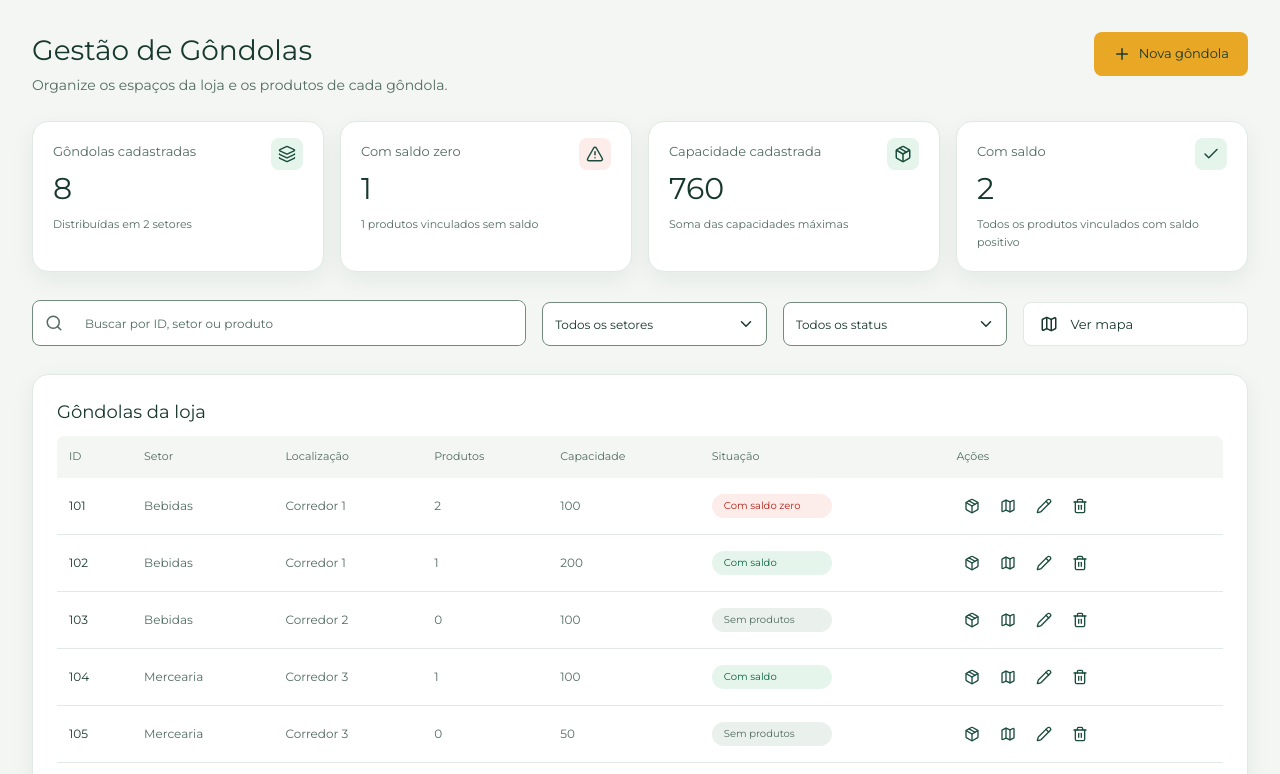
Test case: prevents double submission and closing while waiting for HTTP acknowledgement
Click the button "Nova gôndola": (1171, 54) [1094,32,1248,76]
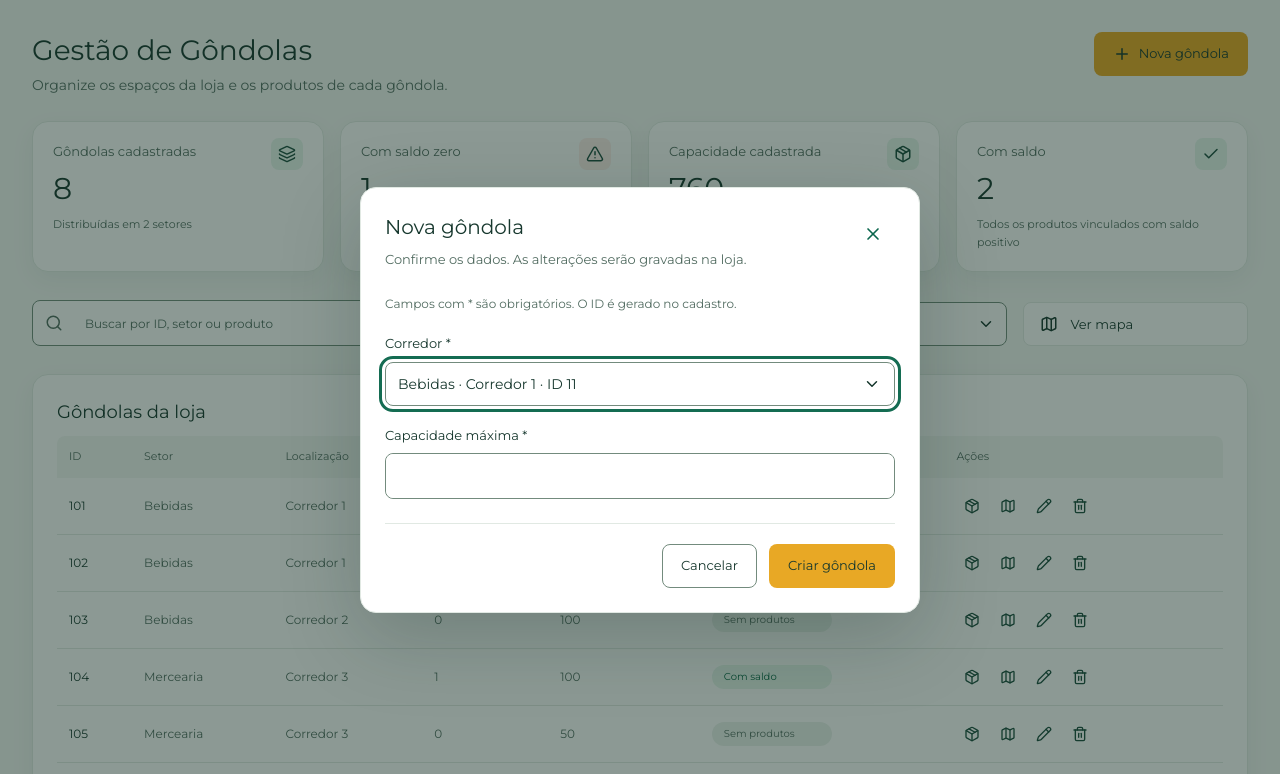
Select "Bebidas · Corredor 2 · ID 12" in the dropdown labelled "Corredor": (640, 384) [385,362,895,406]
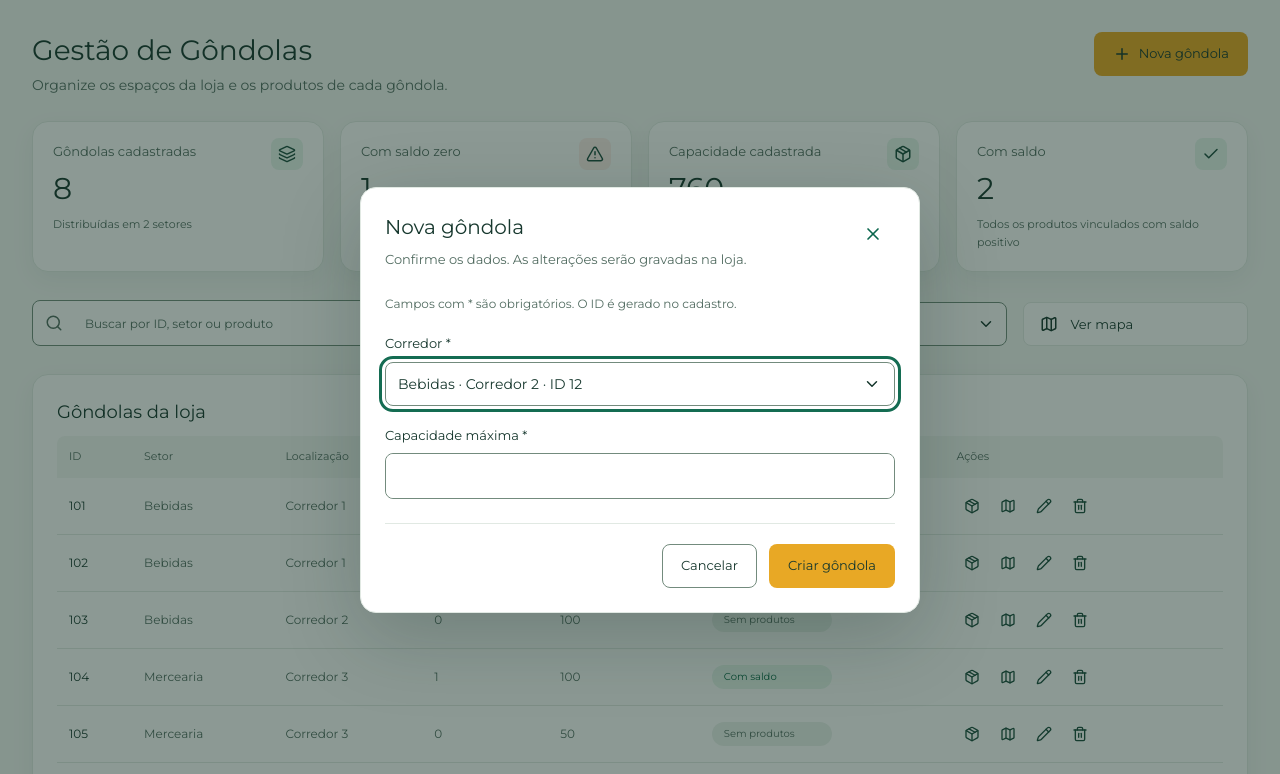
In the number field labelled "Capacidade máxima": (640, 476) [386,454,894,498], type "80"
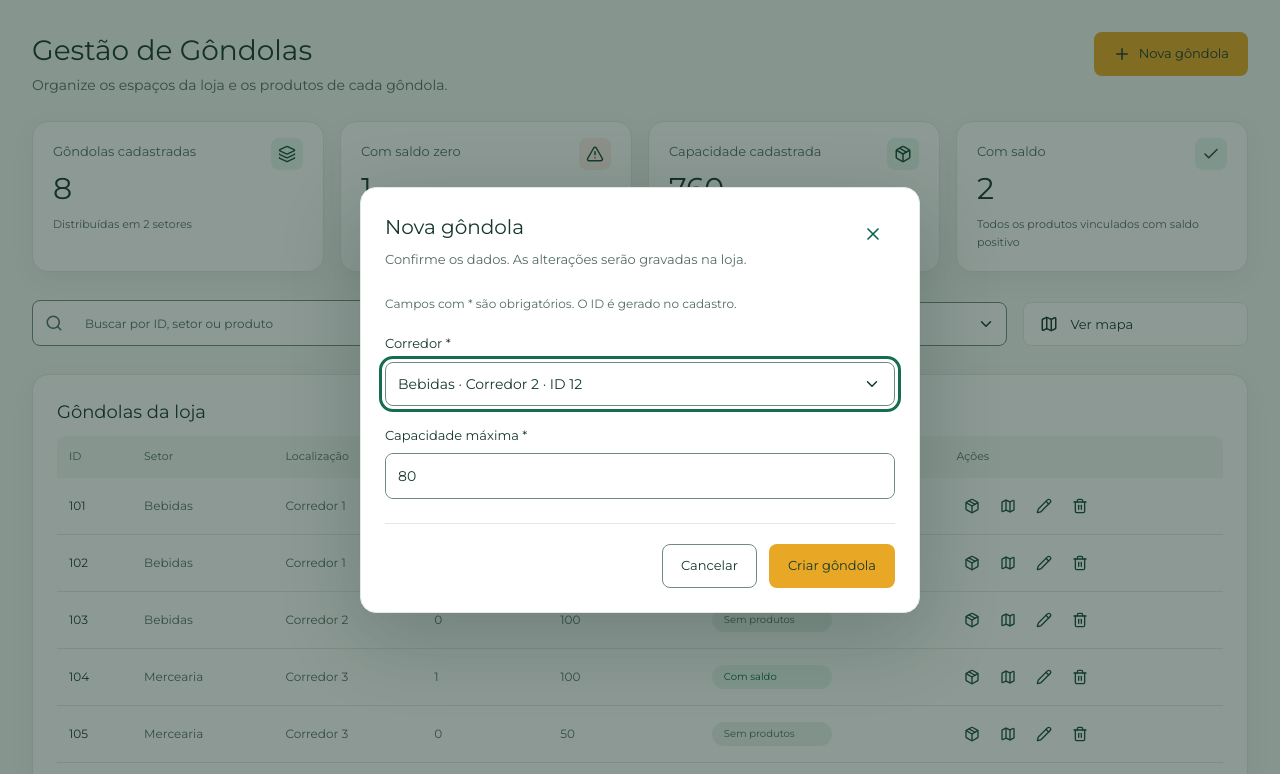
Click the button "Criar gôndola": (832, 566) [769,544,895,588]
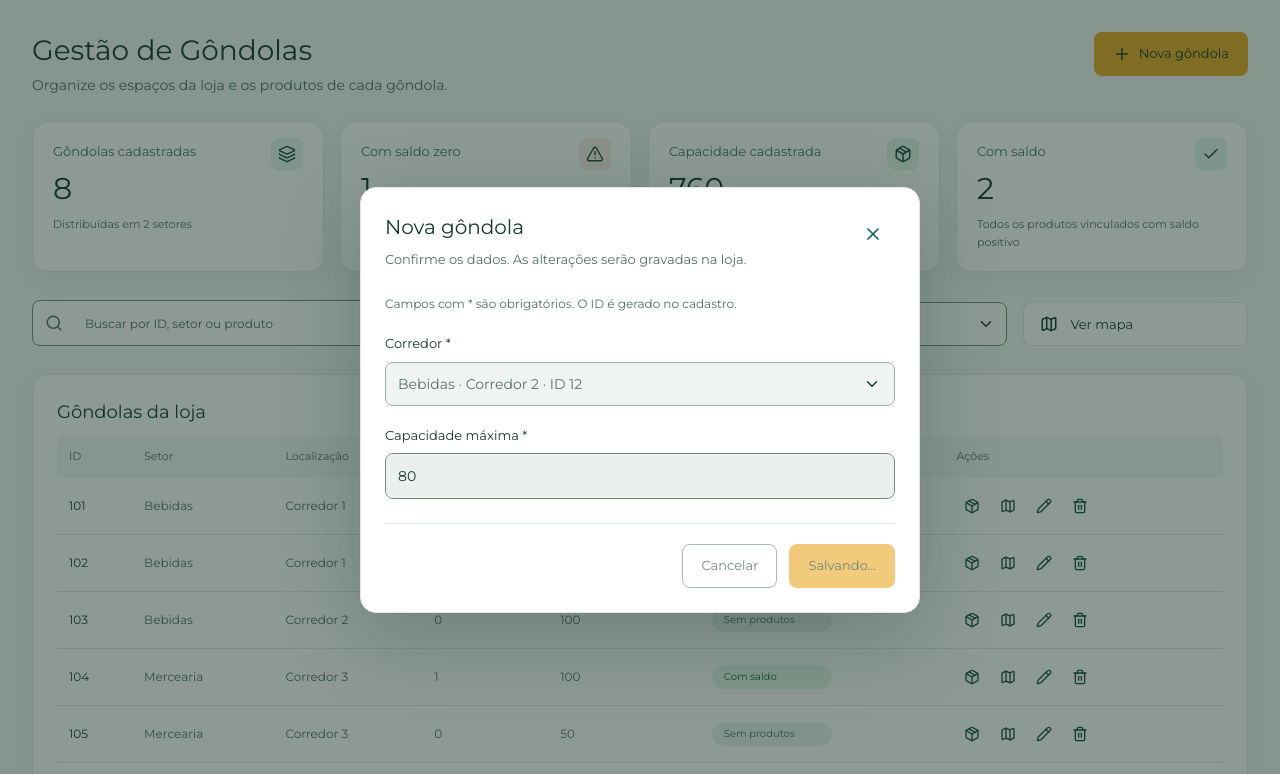
Submit the form, box [385,294,895,499]
Press Escape in the dialog, box [360,187,920,613]
Click the button named "Fechar janela": (873, 234) [851,212,895,256]
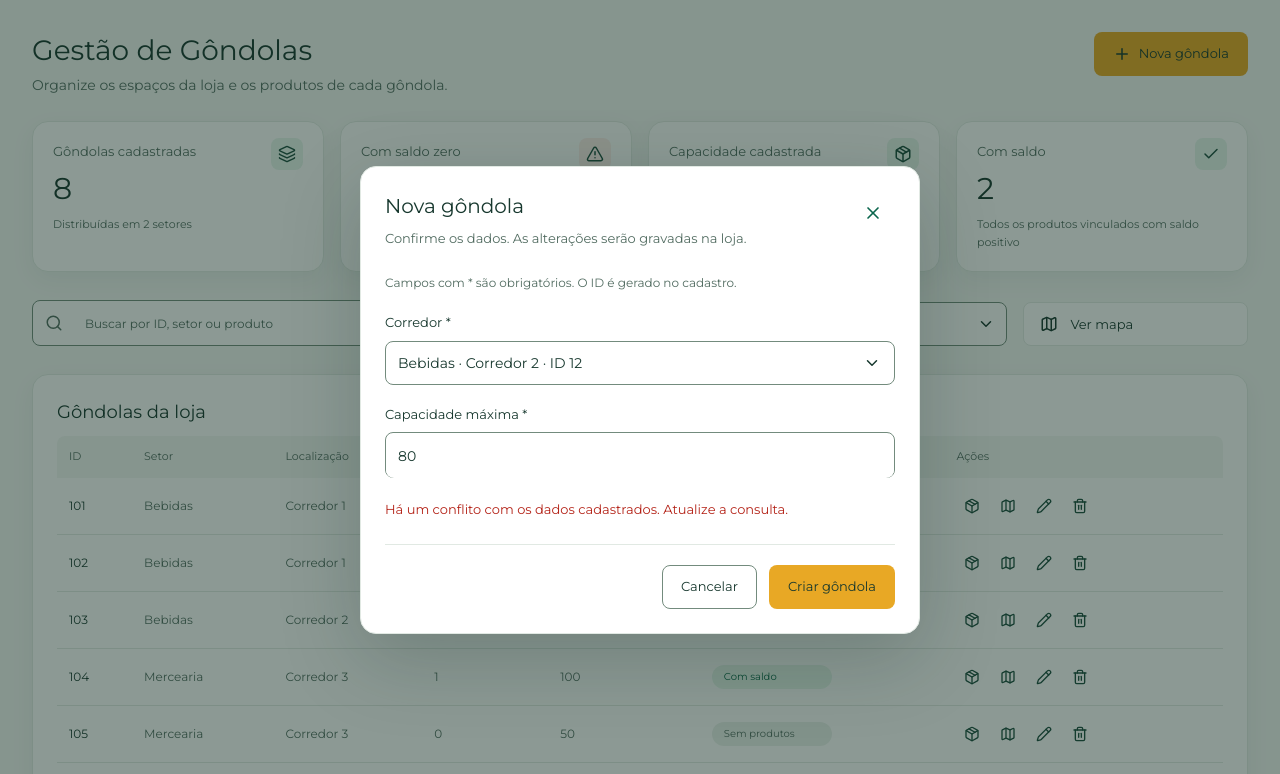
Now the dialog is shown, box [360,166,920,634]
Now the message "Há um conflito com os dados cadastrados. Atualize a consulta." is shown, box [385,501,788,517]
Click the button "Cancelar": (709, 587) [662,565,757,609]
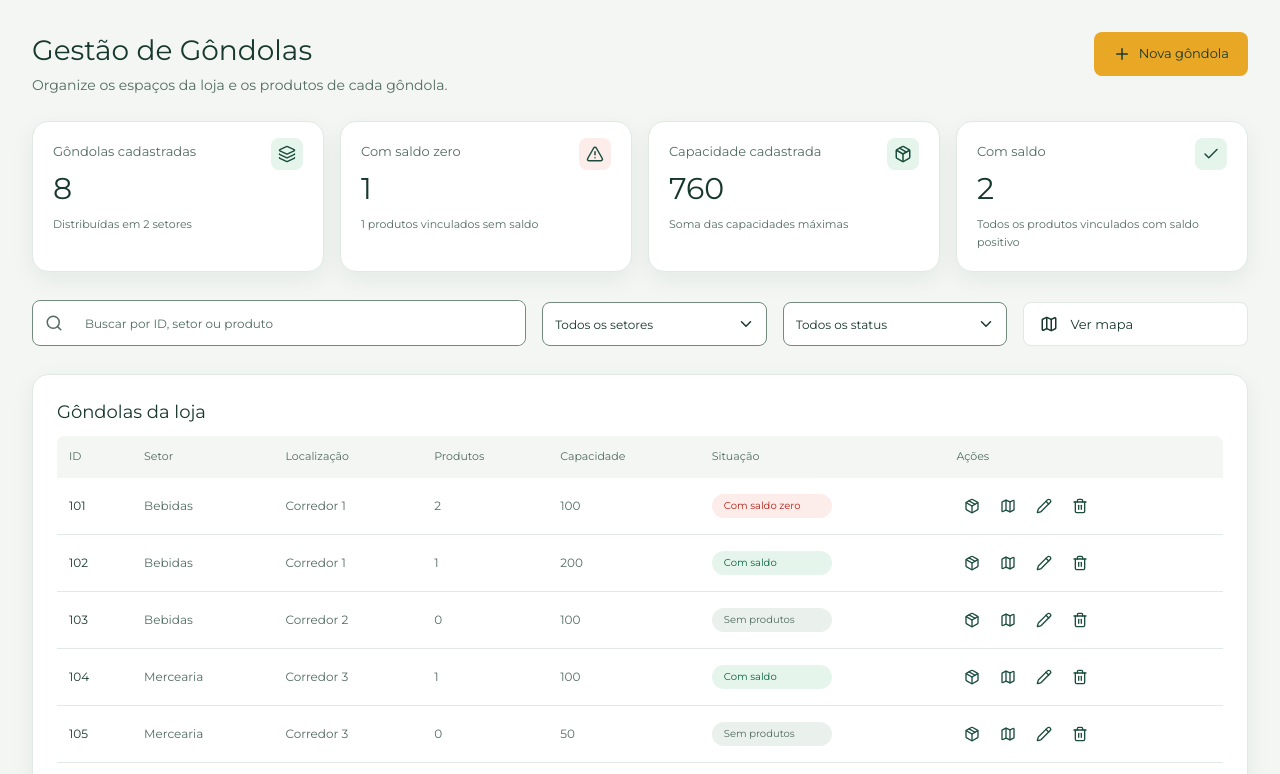
Now the dialog is gone
